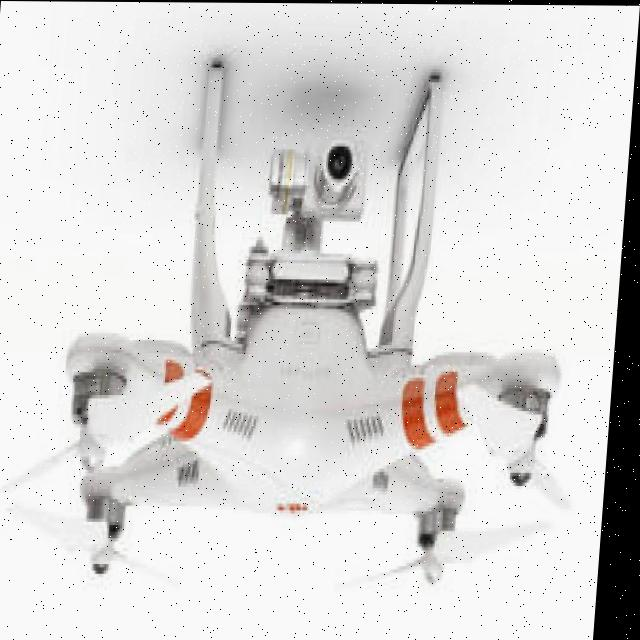drone: (0, 280, 620, 592)
